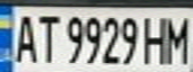2: (100, 12, 124, 65)
9: (60, 11, 84, 65), (118, 12, 142, 65), (81, 11, 103, 65)
A: (9, 10, 39, 63)
H: (139, 11, 172, 65)
M: (163, 12, 193, 65)
T: (33, 10, 60, 64)
